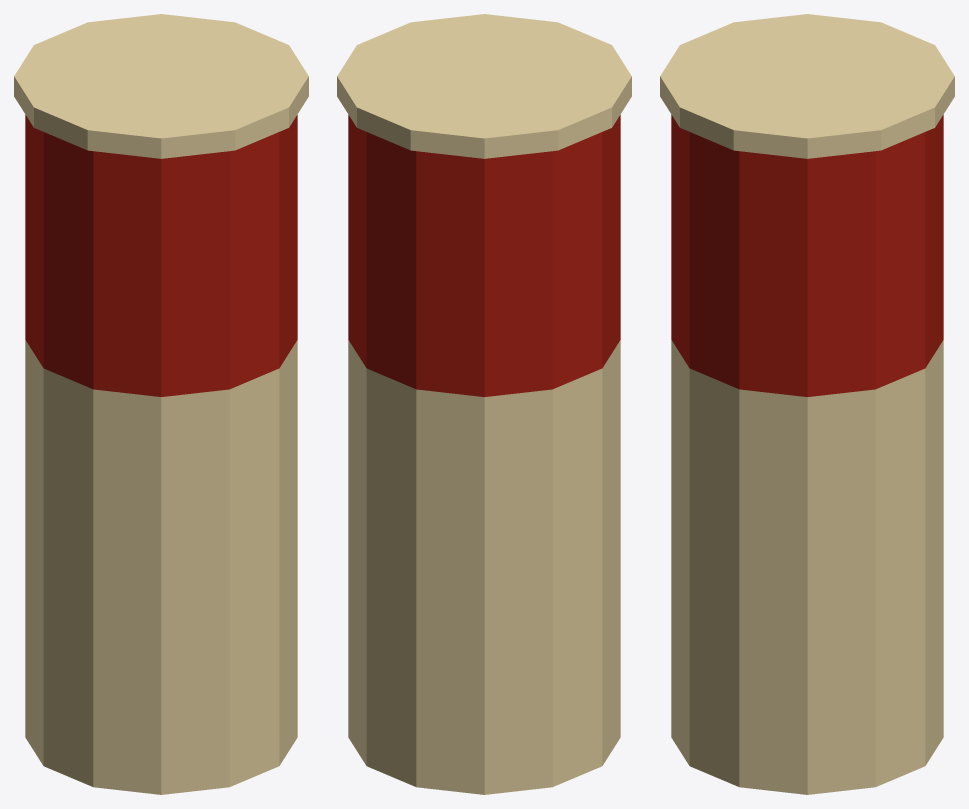
Rendered from Ürün38.fbx.
The picture shows the model from 3 angles, left to right: view 1: azimuth 30°, elevation 25°; view 2: azimuth 150°, elevation 25°; view 3: azimuth 270°, elevation 25°; orthographic projection.
Visible parts, largest first — view 1: pCylinder26; view 2: pCylinder26; view 3: pCylinder26.
Boxes of the visible parts, <box> form: pCylinder26: <box>14,14,308,794</box>; pCylinder26: <box>337,14,631,794</box>; pCylinder26: <box>660,14,954,794</box>.
Bounding box in the file's own units: 11.6 × 28.73 × 11.6.
